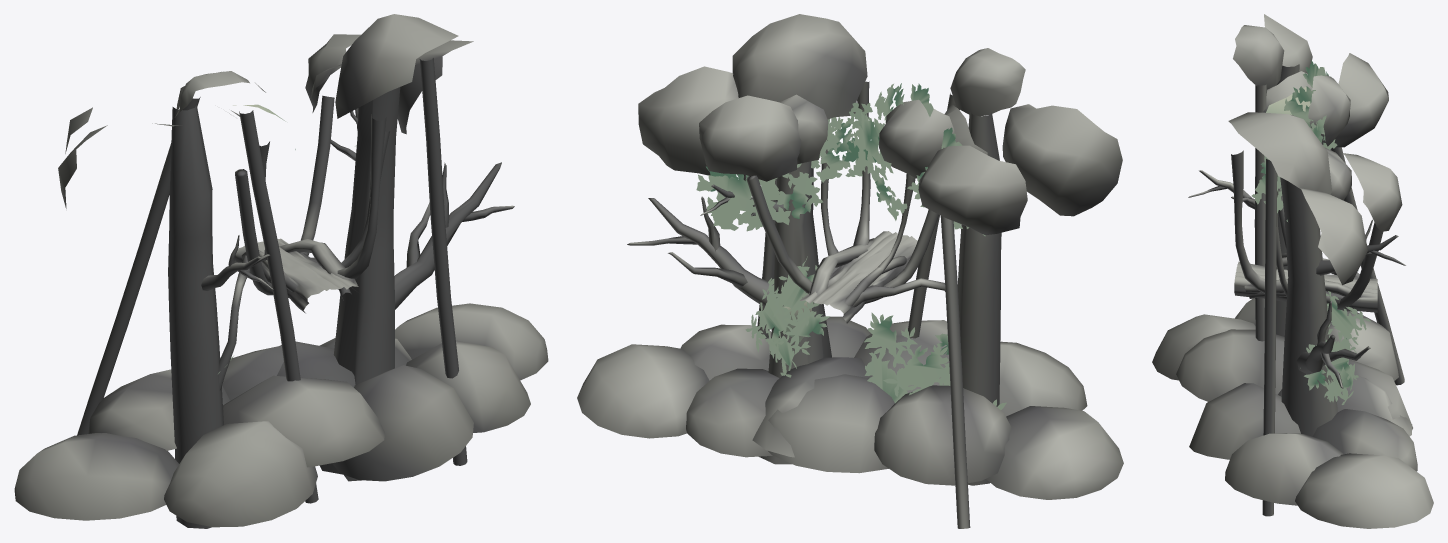
File: Jungle_Canopy_Straight_C.glb
3 renders of one model, left to right at view 1: azimuth 30°, elevation 25°; view 2: azimuth 150°, elevation 25°; view 3: azimuth 270°, elevation 25°, orthographic. The views are drawn at different scales.
Parts seen in each view (by area): view 1: Jungle_Canopy_Straight_C; view 2: Jungle_Canopy_Straight_C; view 3: Jungle_Canopy_Straight_C.
Boxes of the visible parts, x1,y1,x2,y2 form: Jungle_Canopy_Straight_C: [14, 14, 548, 528]; Jungle_Canopy_Straight_C: [577, 14, 1123, 528]; Jungle_Canopy_Straight_C: [1152, 14, 1433, 528].
Bounding box in the file's own units: 37.48 × 29.72 × 19.94.
